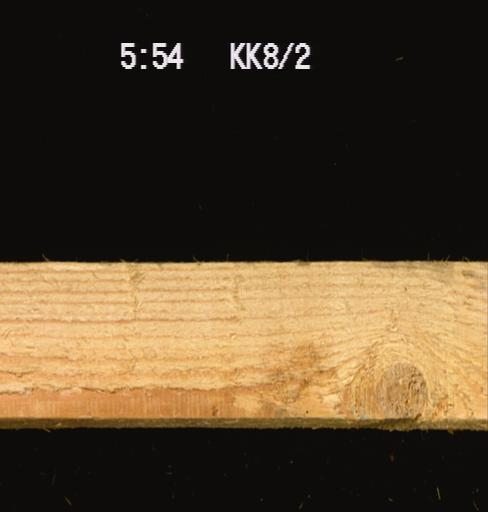edge_knot: (371, 364, 442, 430)
